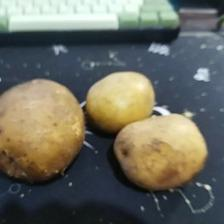Damaged potato: (1, 77, 88, 184), (112, 111, 209, 192)
Potato: (84, 71, 155, 133)
